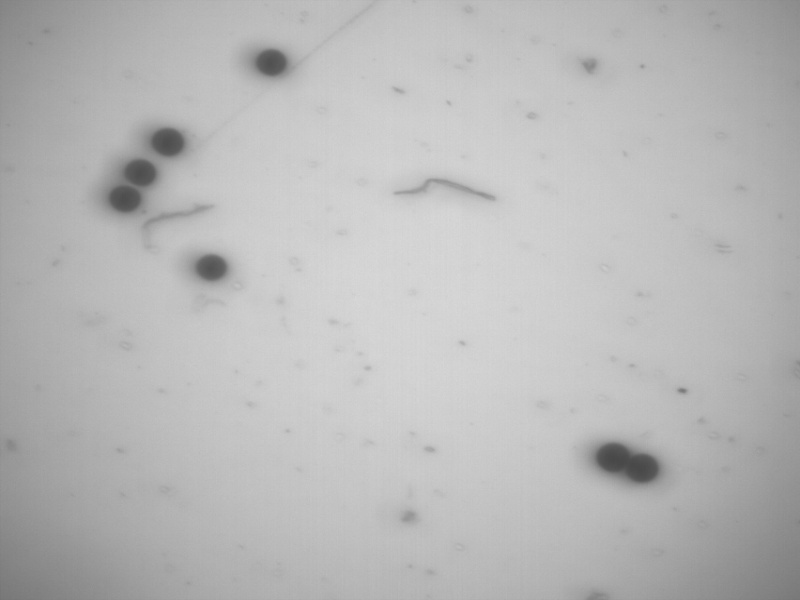bead: (622, 453, 661, 485), (122, 157, 159, 187), (193, 253, 230, 283), (596, 442, 631, 473), (151, 126, 185, 157), (107, 185, 142, 214), (256, 49, 288, 76)
fiber: (138, 198, 219, 251), (388, 176, 504, 203)
